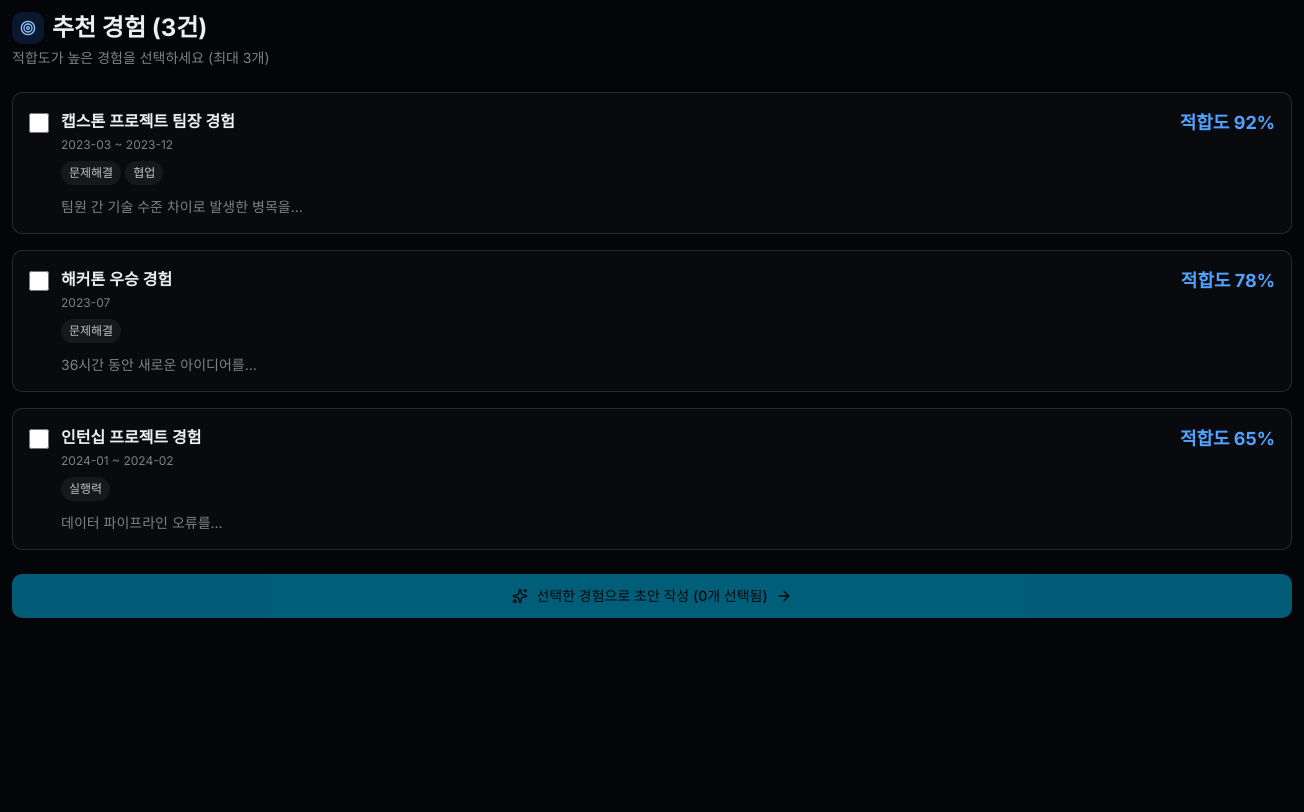
Test: ExperienceRecommend › enables CTA button only when at least 1 experience selected
Check: the button "선택한 경험으로 초안 작성 (0개 선택됨)" is disabled, box x1=12 y1=574 x2=1292 y2=618
// Select first experience
Click the checkbox next to "캡스톤 프로젝트 팀장 경험".
click(39, 123)  # box x1=29 y1=113 x2=49 y2=133
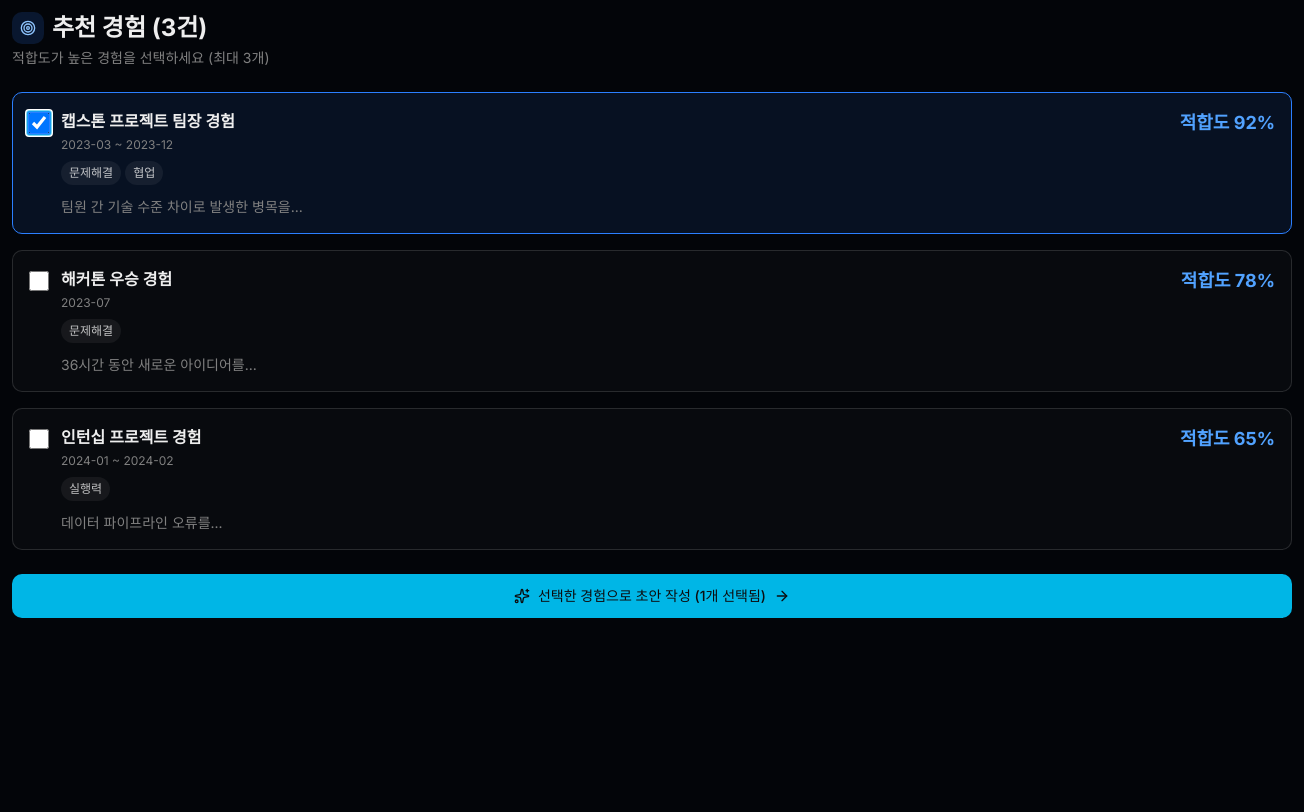
Check: the button "선택한 경험으로 초안 작성 (1개 선택됨)" is enabled, box x1=12 y1=574 x2=1292 y2=618
